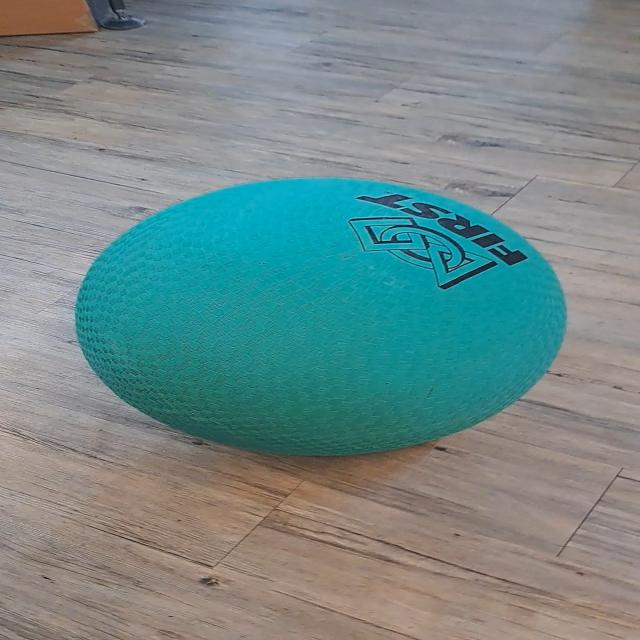ALGAE: (72, 176, 569, 458)
